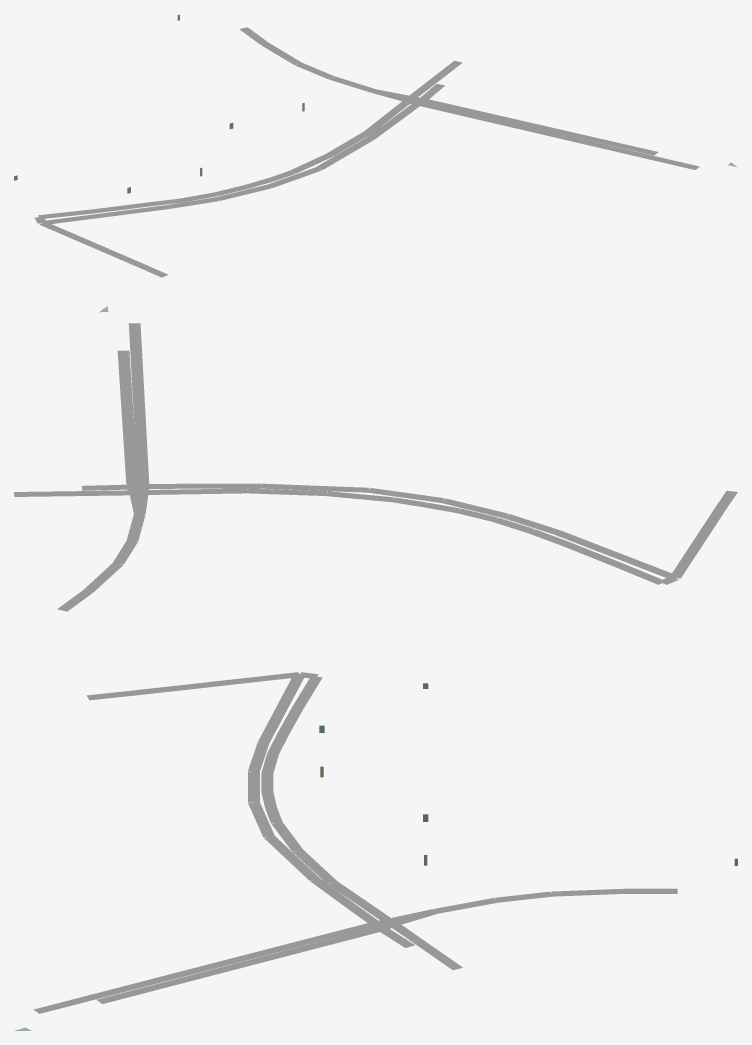
3 views of the same model, one above another, from view 1: azimuth 30°, elevation 25°; view 2: azimuth 150°, elevation 25°; view 3: azimuth 270°, elevation 25° (orthographic). The views are drawn at different scales.
Bounding box in the file's own units: 488 × 7.96 × 419.
